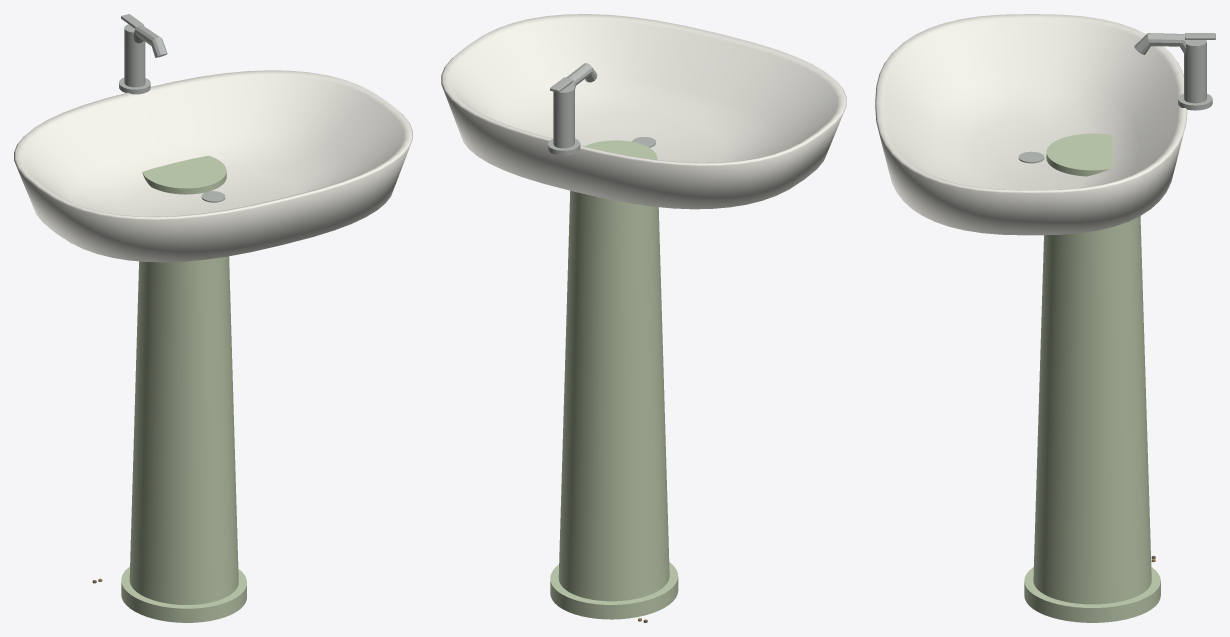
Rendered from pedestal-sink.glb.
The picture shows the model from 3 angles, left to right: view 1: azimuth 30°, elevation 25°; view 2: azimuth 150°, elevation 25°; view 3: azimuth 270°, elevation 25°; orthographic projection. The views are drawn at different scales.
Parts seen in each view (by area): view 1: pedestal-sink authored assembly; view 2: pedestal-sink authored assembly; view 3: pedestal-sink authored assembly.
Part boxes in pixels (<box>): pedestal-sink authored assembly: <box>14,14,412,622</box>; pedestal-sink authored assembly: <box>441,14,846,622</box>; pedestal-sink authored assembly: <box>875,14,1215,622</box>.
Bounding box in the file's own units: 0.62 × 0.91 × 0.5.
